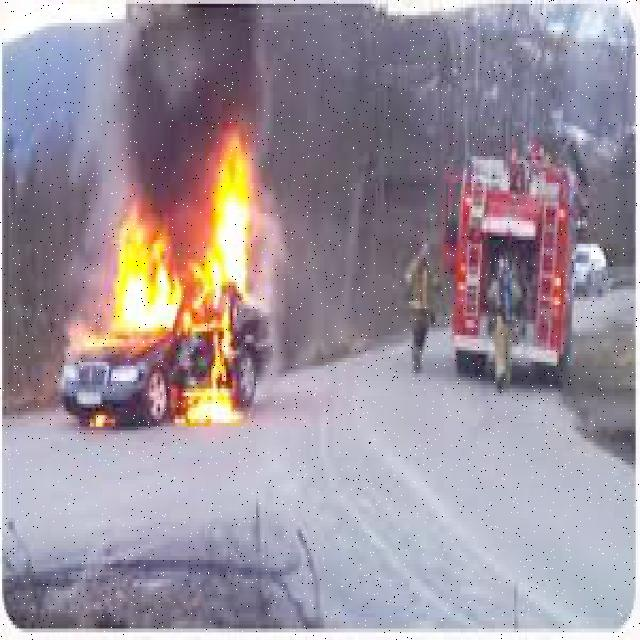fire: (192, 142, 250, 425), (112, 192, 188, 331)
smoke: (115, 15, 272, 126)
